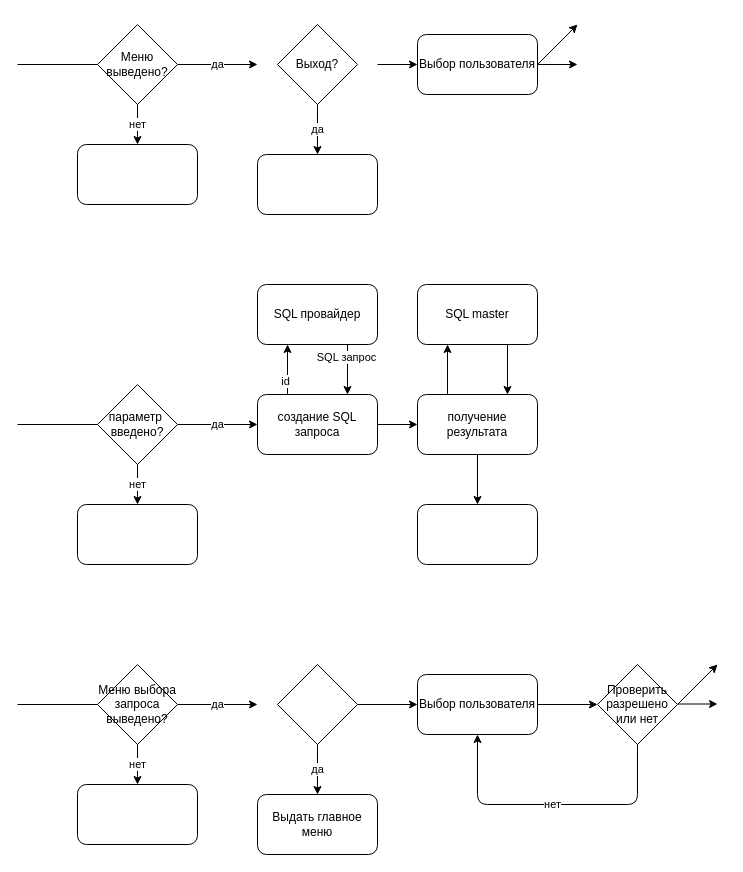
Some shapes in this 743 by 872 pixel diagram are drawn without their labels. The centre of each missing label's shape, as x and y in pixels:
вернуться в главное меню: point 317,704
выдать меню: point 137,174
выдать меню выбора запроса: point 137,814
Выдать меню выхода: point 317,184
Выдать результат: point 477,534
выдать форму ввода: point 137,534
